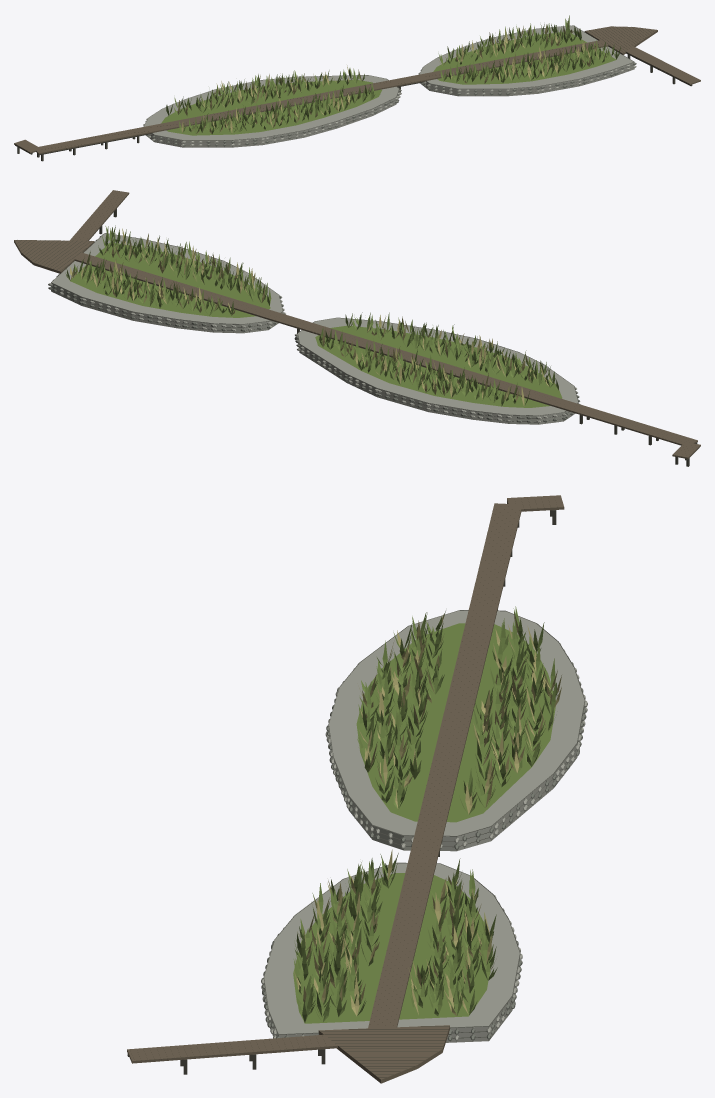
Rendered from dorus-theus-brug.glb.
The picture shows the model from 3 angles, top to bottom: view 1: azimuth 30°, elevation 25°; view 2: azimuth 150°, elevation 25°; view 3: azimuth 270°, elevation 25°; orthographic projection. The views are drawn at different scales.
Parts seen in each view (by area): view 1: dorus-theus-brug; view 2: dorus-theus-brug; view 3: dorus-theus-brug.
Part boxes in pixels (x1,y1,x2,y2): dorus-theus-brug: (14, 15, 700, 161); dorus-theus-brug: (14, 190, 700, 466); dorus-theus-brug: (127, 495, 587, 1083).
Bounding box in the file's own units: 51.36 × 1.97 × 17.11.
